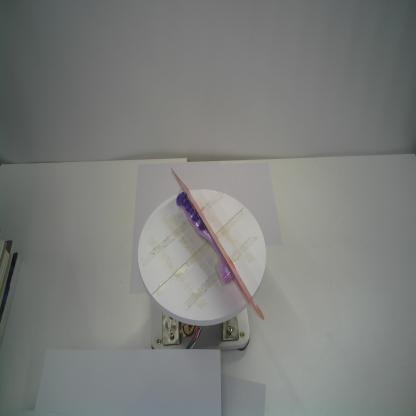Personal Hygiene: (171, 167, 265, 321)
